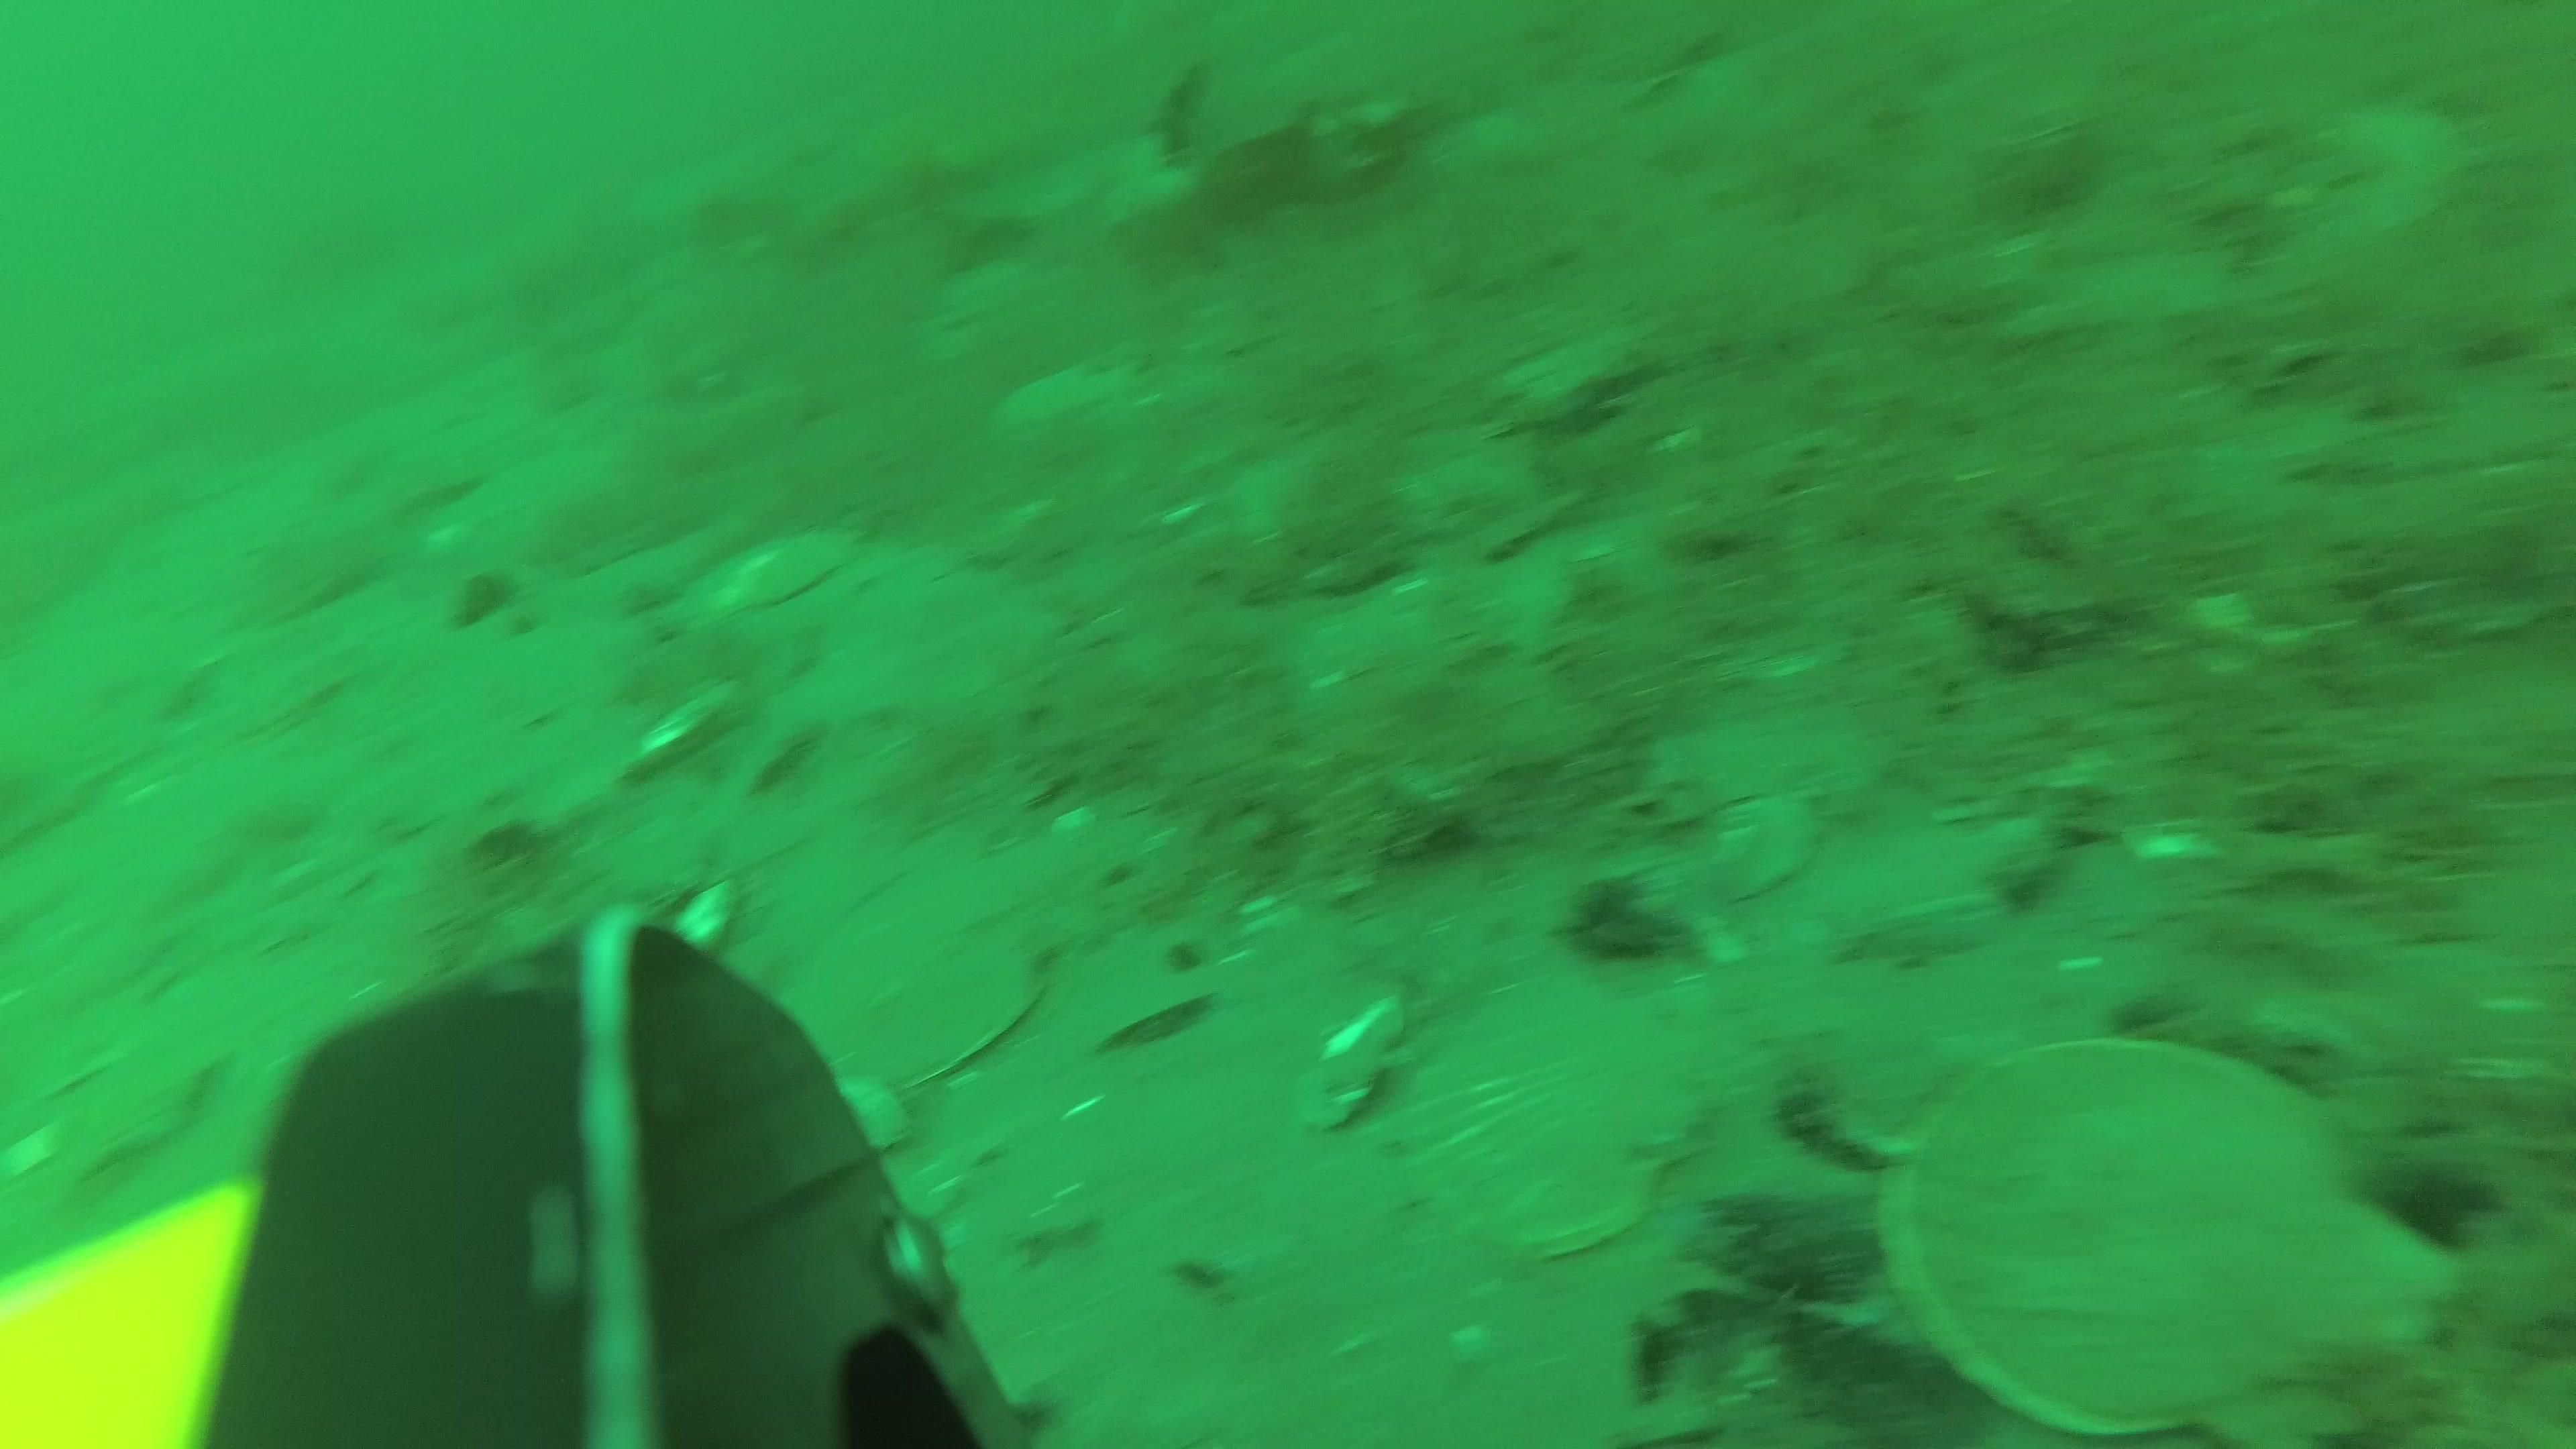scallop: (1884, 1039, 2461, 1449), (1405, 975, 1707, 1265), (782, 869, 1100, 1104), (2272, 104, 2468, 251), (223, 635, 363, 741), (690, 525, 856, 614), (996, 366, 1123, 426)
